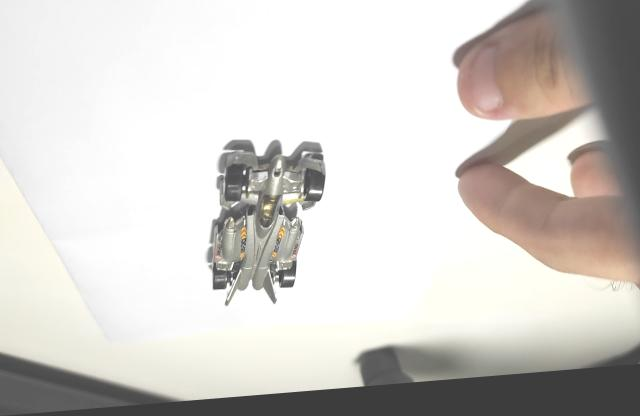05_DC121: (206, 142, 327, 309)
